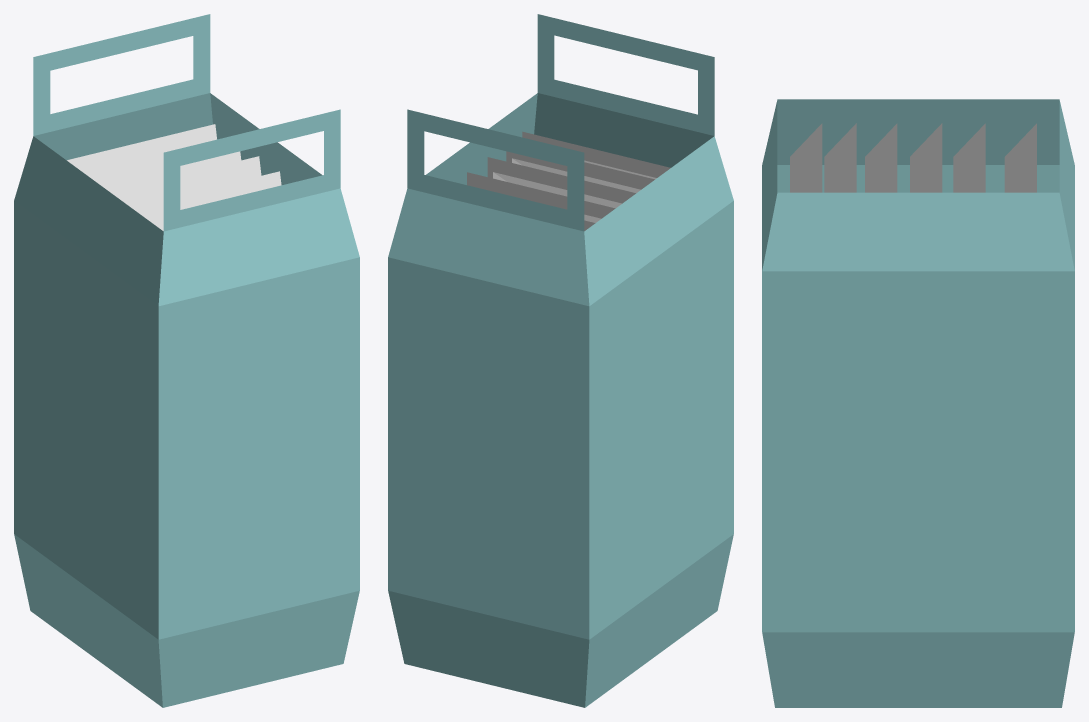
The model's file is PlasticBagWithTrays.fbx.
3 views of the same model, side by side, from view 1: azimuth 30°, elevation 25°; view 2: azimuth 150°, elevation 25°; view 3: azimuth 270°, elevation 25° (orthographic). The views are drawn at different scales.
Visible parts, largest first — view 1: BolsasParaPlatos, Plane.007, Plane.005, Plane.004, Plane.006; view 2: BolsasParaPlatos, Plane.004, Plane.003, Plane.005, Plane.002; view 3: BolsasParaPlatos, Plane.005, Plane.002, Plane.004, Plane.003, Plane.006, Plane.007.
Boxes of the visible parts, left/top/right/bottom form: BolsasParaPlatos: left=14, top=14, right=359, bottom=707; Plane.007: left=67, top=124, right=216, bottom=177; Plane.005: left=110, top=156, right=261, bottom=207; Plane.004: left=131, top=171, right=281, bottom=221; Plane.006: left=90, top=151, right=241, bottom=192; BolsasParaPlatos: left=388, top=14, right=733, bottom=707; Plane.004: left=487, top=157, right=635, bottom=208; Plane.003: left=506, top=151, right=654, bottom=193; Plane.005: left=467, top=172, right=615, bottom=222; Plane.002: left=522, top=131, right=670, bottom=179; BolsasParaPlatos: left=762, top=99, right=1074, bottom=707; Plane.005: left=910, top=123, right=942, bottom=192; Plane.002: left=790, top=123, right=822, bottom=192; Plane.004: left=865, top=123, right=897, bottom=192; Plane.003: left=824, top=123, right=856, bottom=192; Plane.006: left=953, top=123, right=985, bottom=192; Plane.007: left=1004, top=123, right=1036, bottom=192.
Size of the model in its own units: 5.35 by 14.08 by 6.66.
